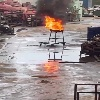fire: (45, 15, 63, 31)
